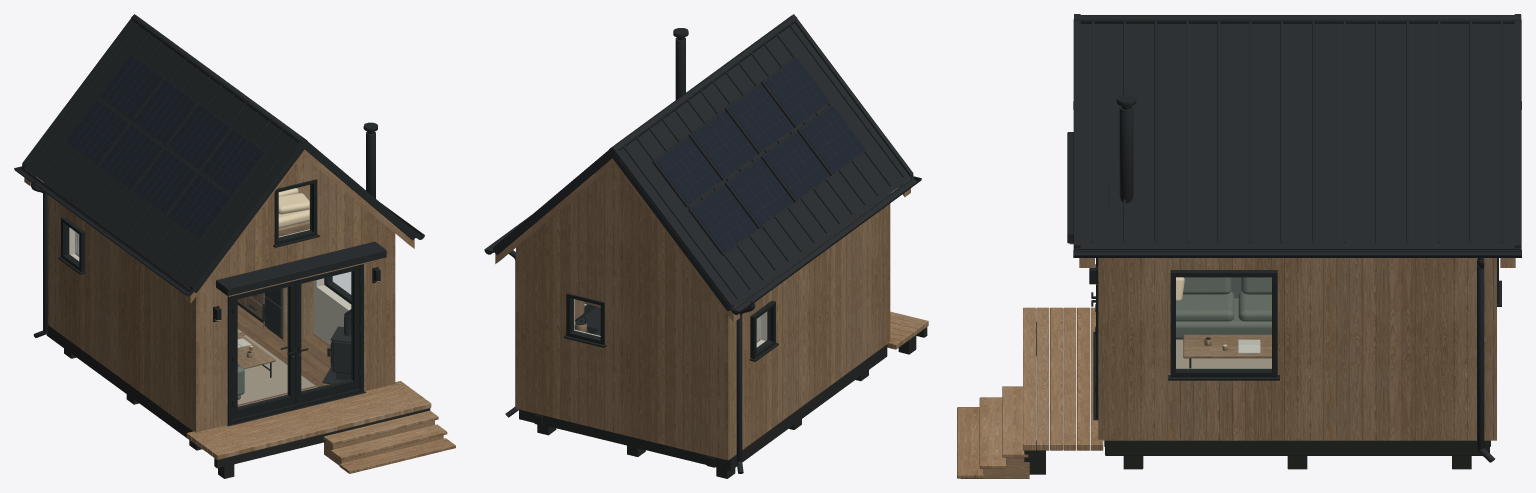
The model's file is niva-configurator.glb.
3 views of the same model, side by side, from view 1: azimuth 30°, elevation 25°; view 2: azimuth 150°, elevation 25°; view 3: azimuth 270°, elevation 25° (orthographic). The views are drawn at different scales.
Visible parts, largest first — view 1: Left_RoofPlane, Left_SideCladding, Front_GableCladding, Front_DoubleDoor_Glass_-1, Front_DoubleDoor_Glass_1, FrontCanopy, Interior_Floor, DeckBoard_05, SolarModule_0_3_Cells, SolarModule_0_2_Cells, SolarModule_1_1_Cells, SolarModule_1_2_Cells (+43 smaller); view 2: Rear_KitchenWindowCladding, Left_RoofPlane, Left_SideCladding, FloorStructure, SolarModule_1_1_Cells, SolarModule_1_2_Cells, SolarModule_1_3_Cells, SolarModule_0_1_Cells, SolarModule_1_0_Cells, SolarModule_0_0_Cells, SolarModule_0_3_Cells, SolarModule_0_2_Cells (+12 smaller); view 3: Right_RoofPlane, Right_SideCladding, Right_Window_Glass, FloorStructure, RidgeCap, Right_Gutter, Front_GableCladding, Rear_KitchenWindowCladding, DeckBoard_02, DeckBoard_04, DeckBoard_01, DeckBoard_03 (+34 smaller).
Part boxes in pixels (box(x1,y1,x2,y2)): Left_RoofPlane: box(22, 22, 305, 292); Left_SideCladding: box(47, 185, 190, 428); Front_GableCladding: box(190, 155, 395, 432); Front_DoubleDoor_Glass_-1: box(238, 287, 288, 407); Front_DoubleDoor_Glass_1: box(302, 272, 351, 391); FrontCanopy: box(216, 241, 386, 295); Interior_Floor: box(237, 305, 330, 386); DeckBoard_05: box(212, 400, 431, 459); SolarModule_0_3_Cells: box(101, 55, 161, 118); SolarModule_0_2_Cells: box(134, 80, 195, 142); SolarModule_1_1_Cells: box(134, 150, 195, 212); SolarModule_1_2_Cells: box(101, 125, 161, 188); Rear_KitchenWindowCladding: box(516, 164, 733, 460); Left_RoofPlane: box(610, 23, 913, 311); Left_SideCladding: box(733, 198, 887, 455); FloorStructure: box(519, 344, 887, 470); SolarModule_1_1_Cells: box(764, 132, 829, 199); SolarModule_1_2_Cells: box(728, 159, 793, 226); SolarModule_1_3_Cells: box(692, 185, 757, 252); SolarModule_0_1_Cells: box(728, 84, 793, 151); SolarModule_1_0_Cells: box(800, 106, 865, 172); SolarModule_0_0_Cells: box(764, 58, 829, 124); SolarModule_0_3_Cells: box(656, 137, 720, 204); SolarModule_0_2_Cells: box(692, 111, 756, 177); Right_RoofPlane: box(1073, 22, 1521, 249); Right_SideCladding: box(1105, 258, 1489, 440); Right_Window_Glass: box(1176, 278, 1271, 369); FloorStructure: box(1105, 440, 1489, 455); RidgeCap: box(1074, 15, 1521, 23); Right_Gutter: box(1074, 250, 1521, 257); Front_GableCladding: box(1098, 258, 1111, 440); Rear_KitchenWindowCladding: box(1483, 258, 1496, 440); DeckBoard_02: box(1063, 307, 1076, 450); DeckBoard_04: box(1036, 307, 1049, 450); DeckBoard_01: box(1077, 307, 1089, 450); DeckBoard_03: box(1050, 307, 1062, 450).
Size of the model in its own units: 5.09 by 6.17 by 7.93.
27 materials, 6 textured.
